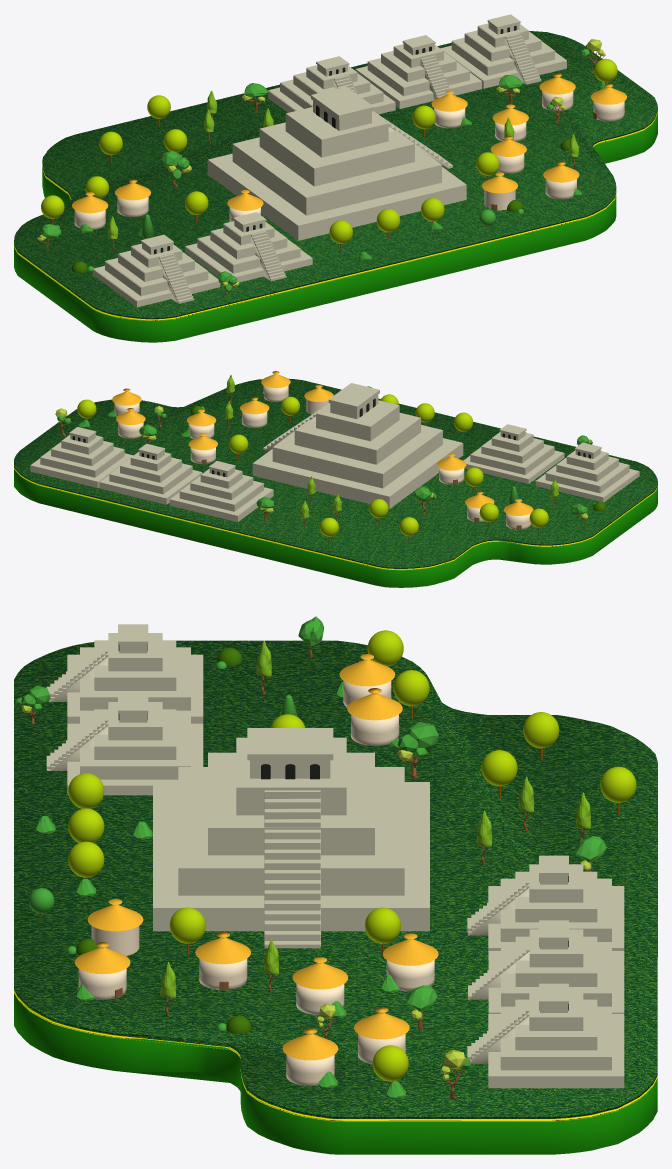
The model's file is Fase 1.fbx.
3 views of the same model, one above another, from view 1: azimuth 30°, elevation 25°; view 2: azimuth 150°, elevation 25°; view 3: azimuth 270°, elevation 25° (orthographic). The views are drawn at different scales.
Visible parts, largest first — view 1: Plane.005, PiramideG, Plane.004, Piramide5, Piramide4, Piramide3, Piramide2, Piramide1, Plane.006, Cylinder.012, Cylinder.018, Cylinder.006 (+8 smaller); view 2: Plane.005, PiramideG, Plane.004, Piramide1, Piramide2, Piramide5, Piramide3, Piramide4, Plane.006, Cone.019, Cone.015, Cylinder.008 (+7 smaller); view 3: Plane.005, PiramideG, Plane.004, Piramide3, Piramide4, Piramide5, Piramide1, Piramide2, Cylinder.008, Cylinder.018, Cylinder.006, Cylinder.012 (+18 smaller).
Part boxes in pixels (box(x1,y1,x2,y2)): Plane.005: box(14, 31, 657, 319); PiramideG: box(207, 86, 466, 240); Plane.004: box(14, 113, 657, 342); Piramide5: box(92, 234, 220, 307); Piramide4: box(185, 212, 312, 282); Piramide3: box(440, 14, 566, 88); Piramide2: box(355, 35, 481, 108); Piramide1: box(268, 56, 395, 114); Plane.006: box(14, 111, 657, 320); Cylinder.012: box(591, 83, 626, 121); Cylinder.018: box(115, 179, 150, 216); Cylinder.006: box(543, 161, 579, 199); Plane.005: box(14, 378, 657, 568); PiramideG: box(252, 383, 463, 508); Plane.004: box(14, 469, 657, 587); Piramide1: box(169, 461, 273, 521); Piramide2: box(99, 443, 202, 504); Piramide5: box(535, 442, 639, 502); Piramide3: box(30, 427, 133, 487); Piramide4: box(463, 424, 564, 483); Plane.006: box(14, 468, 657, 570); Cone.019: box(437, 453, 466, 484); Cone.015: box(188, 433, 217, 464); Cylinder.008: box(240, 397, 269, 427); Plane.005: box(14, 640, 657, 1118); PiramideG: box(153, 728, 429, 948); Plane.004: box(14, 924, 657, 1154); Piramide3: box(467, 983, 624, 1088); Piramide4: box(46, 693, 203, 795); Piramide5: box(46, 624, 203, 723); Piramide1: box(467, 855, 624, 958); Piramide2: box(468, 920, 624, 1013); Cylinder.008: box(195, 932, 250, 990); Cylinder.018: box(347, 688, 402, 745); Cylinder.006: box(74, 942, 130, 999); Cylinder.012: box(282, 1028, 338, 1086).
Size of the model in its own units: 17309 by 2895 by 9926.
